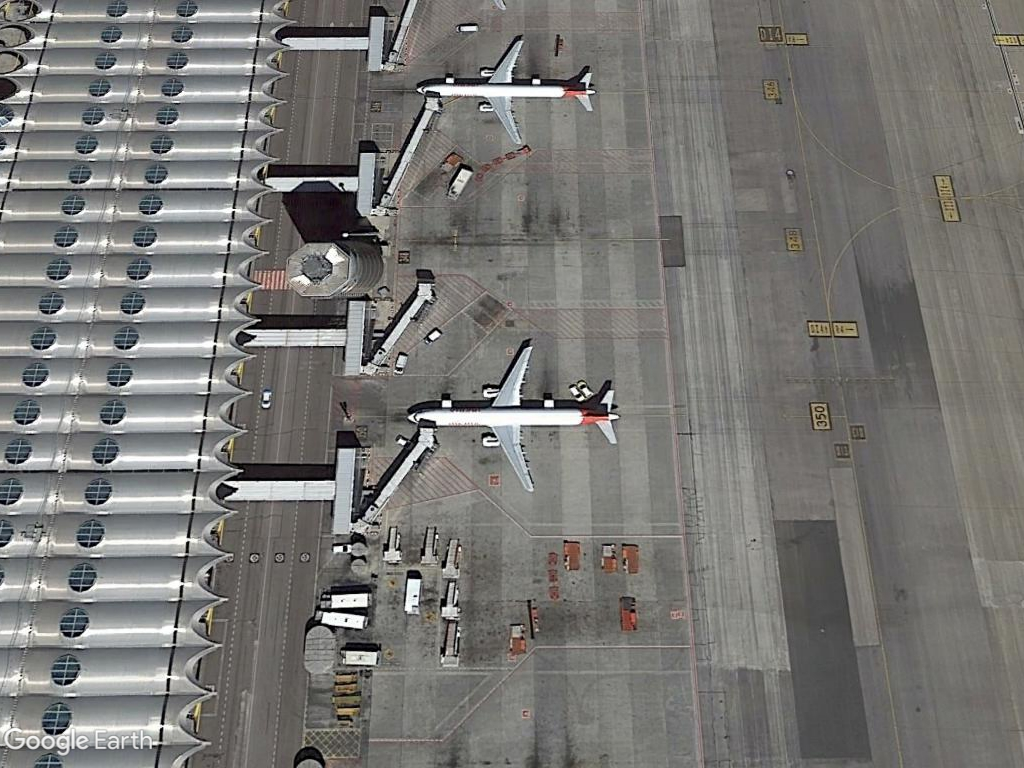airliner: (404, 338, 625, 495), (410, 34, 602, 150)
stairtruck: (438, 536, 466, 583), (437, 620, 463, 670), (416, 524, 443, 568), (437, 576, 463, 620), (382, 522, 404, 568)
truck: (308, 606, 372, 632), (315, 590, 375, 611)
